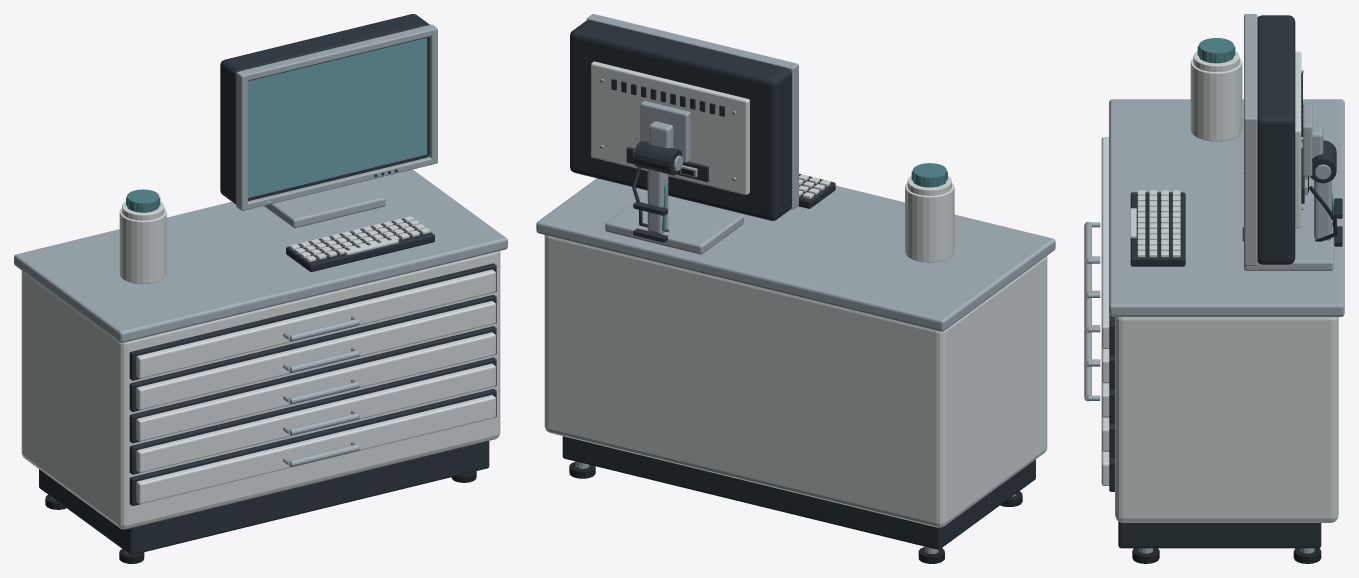
The model's file is RD_IsolationNurseStation.fbx.
3 views of the same model, side by side, from view 1: azimuth 30°, elevation 25°; view 2: azimuth 150°, elevation 25°; view 3: azimuth 270°, elevation 25° (orthographic). The views are drawn at different scales.
Parts seen in each view (by area): view 1: RD_IsolationNurseStation; view 2: RD_IsolationNurseStation; view 3: RD_IsolationNurseStation.
Part boxes in pixels (box(x1,y1,x2,y2)): RD_IsolationNurseStation: box(14, 14, 507, 563); RD_IsolationNurseStation: box(536, 14, 1055, 563); RD_IsolationNurseStation: box(1084, 14, 1344, 563).
Size of the model in its own units: 142 by 145 by 75.65.
